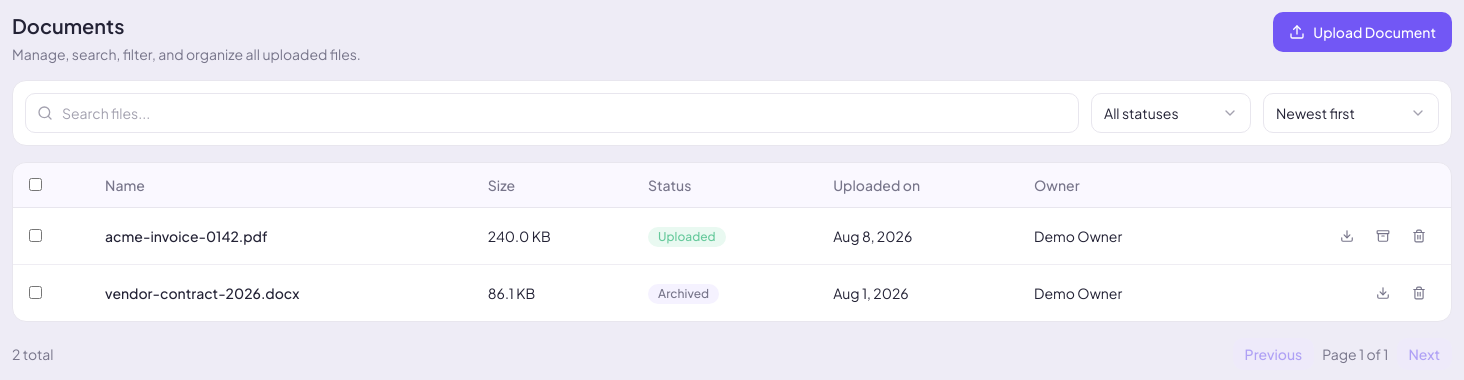
it: DocumentsPage — search and filters › filters the list by search text
Expected: the text "acme-invoice-0142.pdf" is shown, top-left (89, 208), bottom-right (472, 264)
In the search field named "search documents": (552, 113) top-left (25, 93), bottom-right (1079, 133), type "vendor-contract"
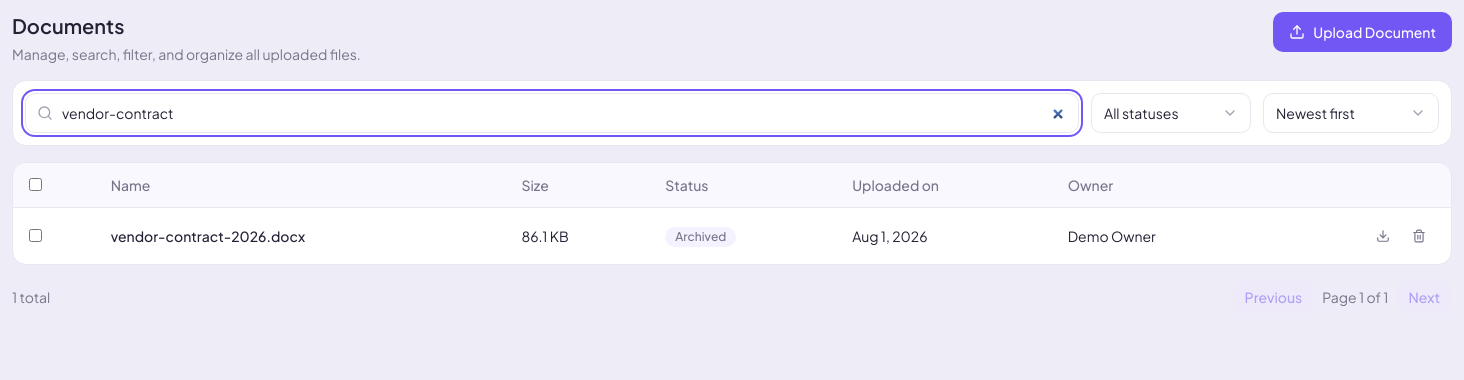
Expected: the text "vendor-contract-2026.docx" is shown, top-left (95, 208), bottom-right (505, 264)
Expected: the text "acme-invoice-0142.pdf" is gone
